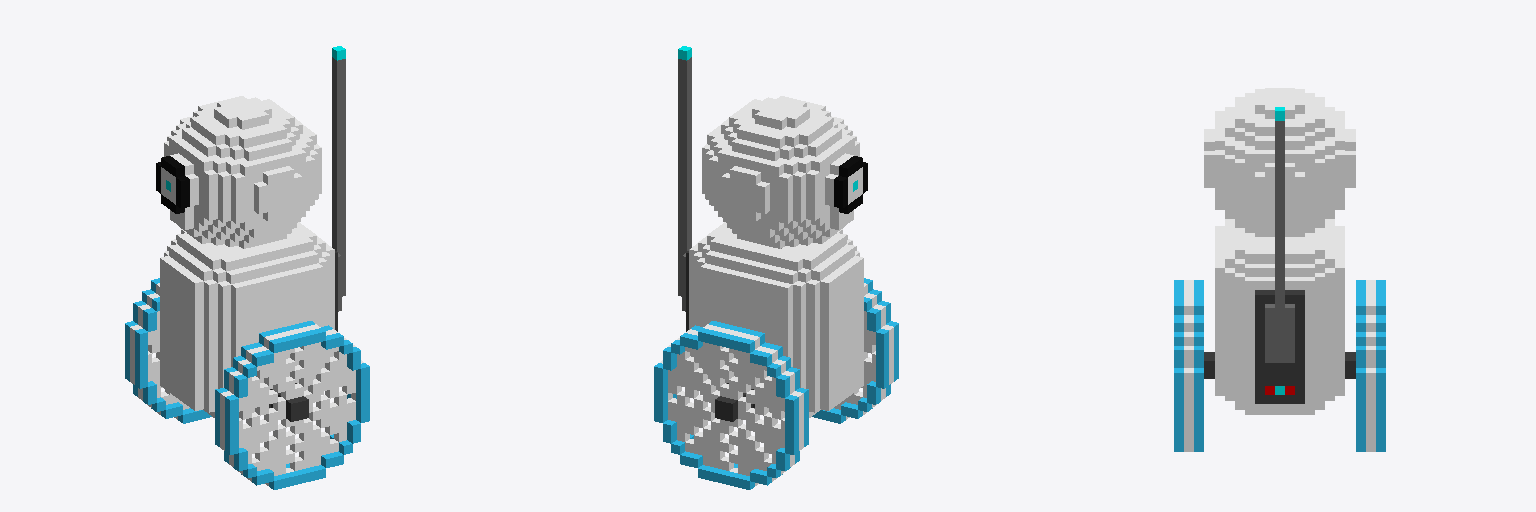
The picture shows the model from 3 angles: view 1: azimuth 30°, elevation 25°; view 2: azimuth 150°, elevation 25°; view 3: azimuth 270°, elevation 25°; orthographic projection.
Parts seen in each view (by area): view 1: object 1; view 2: object 1; view 3: object 1.
Part boxes in pixels (bbox=[...]): object 1: bbox=[125, 46, 369, 489]; object 1: bbox=[654, 46, 898, 489]; object 1: bbox=[1174, 88, 1385, 451].
Bounding box in the file's own units: 2 × 4.1 × 2.1.
Materials: 1 (1 with a texture image).